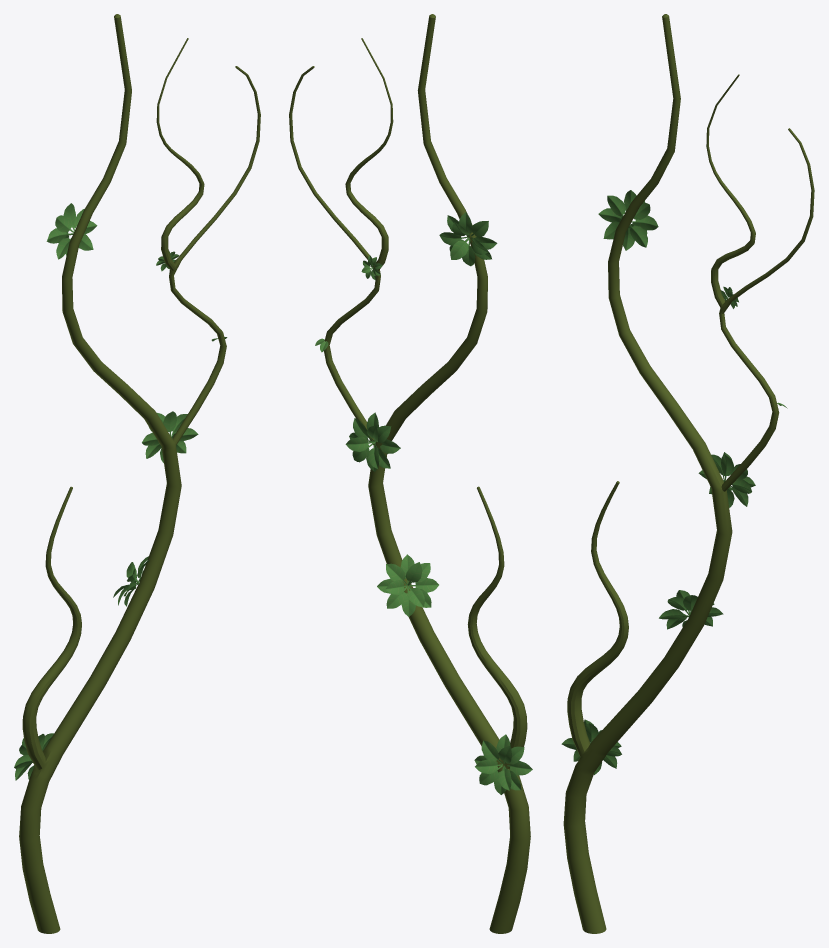
File: Vine5.fbx
3 views of the same model, side by side, from view 1: azimuth 30°, elevation 25°; view 2: azimuth 150°, elevation 25°; view 3: azimuth 330°, elevation 25° (orthographic). The views are drawn at different scales.
Visible parts, largest first — view 1: Vine_5; view 2: Vine_5; view 3: Vine_5.
Part boxes in pixels (box(x1,y1,x2,y2)): Vine_5: box(14, 14, 260, 933); Vine_5: box(289, 14, 532, 933); Vine_5: box(561, 14, 814, 933).
Size of the model in its own units: 1.07 by 3.73 by 0.1722.
